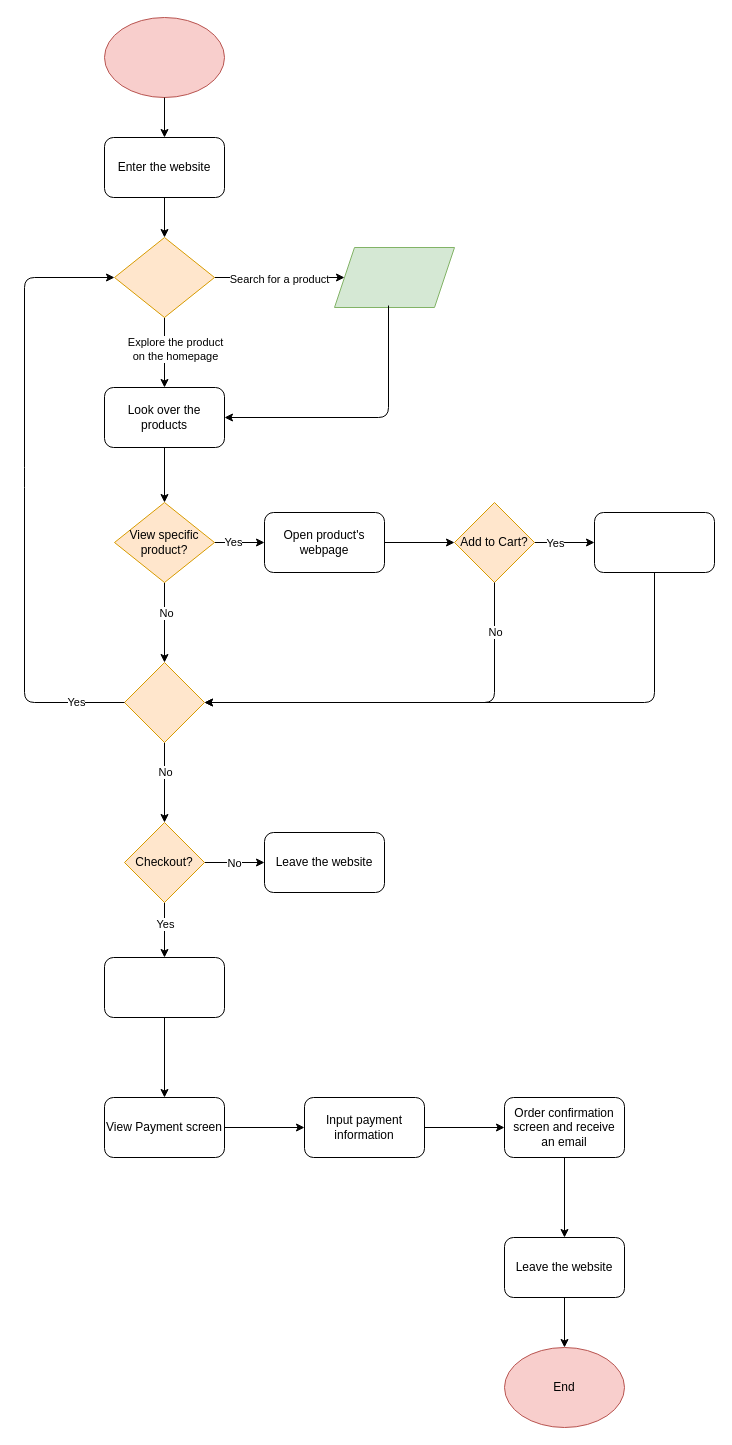
The diagram is 732 pixels wide and 1445 high, and some of its shapes have lost their labels. Each missing label, with the box of its shape:
Added to cart confirmation: (594, 512, 714, 572)
Continue shopping?: (124, 662, 204, 742)
Search/Explore: (114, 236, 214, 318)
Start: (104, 16, 224, 98)
User input for search: (334, 246, 454, 308)
View Cart screen: (104, 956, 224, 1018)
